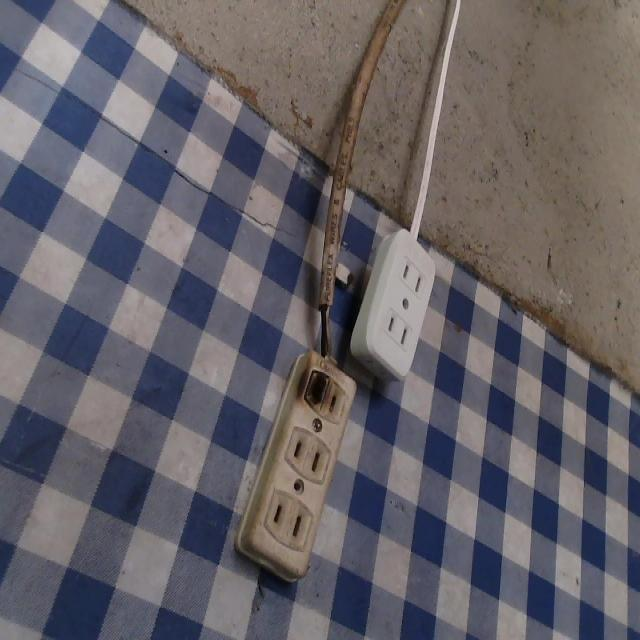-: (301, 356, 334, 411)
